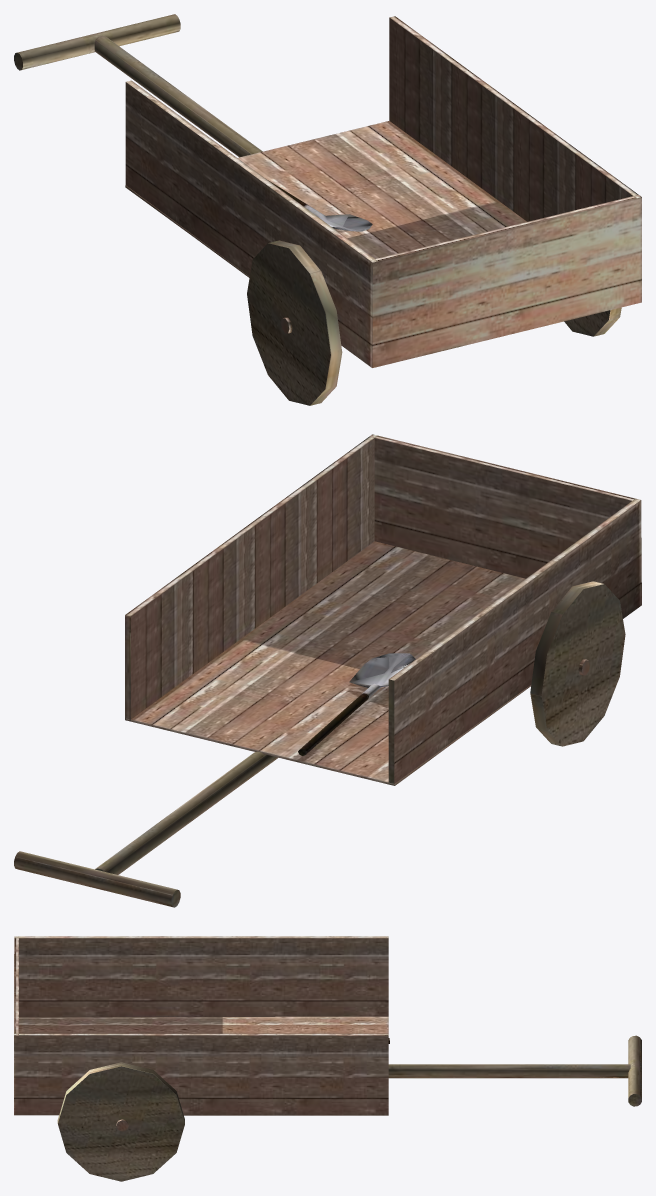
The model's file is Wagon.fbx.
3 views of the same model, one above another, from view 1: azimuth 30°, elevation 25°; view 2: azimuth 150°, elevation 25°; view 3: azimuth 270°, elevation 25° (orthographic). The views are drawn at different scales.
Parts seen in each view (by area): view 1: Gom_Car_00; view 2: Gom_Car_00; view 3: Gom_Car_00.
Boxes of the visible parts, box(x1,y1,x2,y2) form: Gom_Car_00: box(14, 14, 641, 405); Gom_Car_00: box(14, 434, 641, 907); Gom_Car_00: box(14, 936, 641, 1181).
Bounding box in the file's own units: 1.69 × 1 × 4.03.
